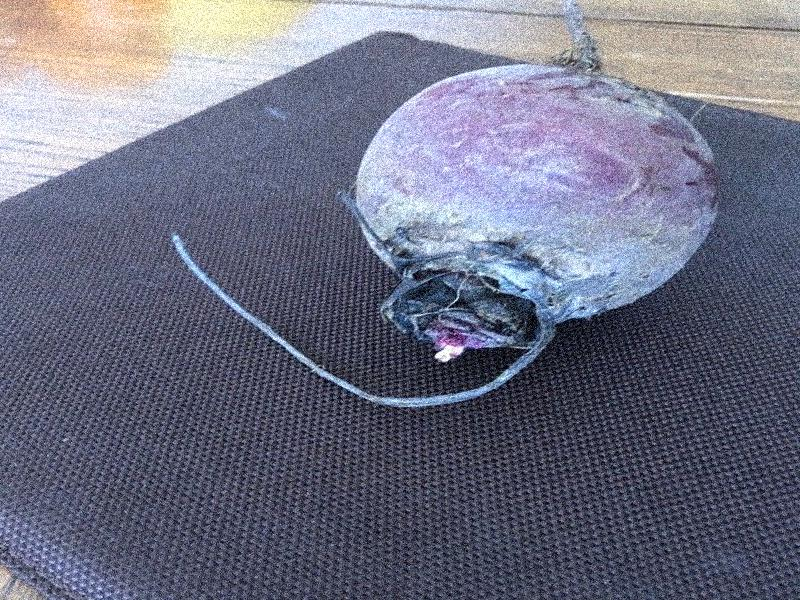Beet: (170, 1, 720, 407)
